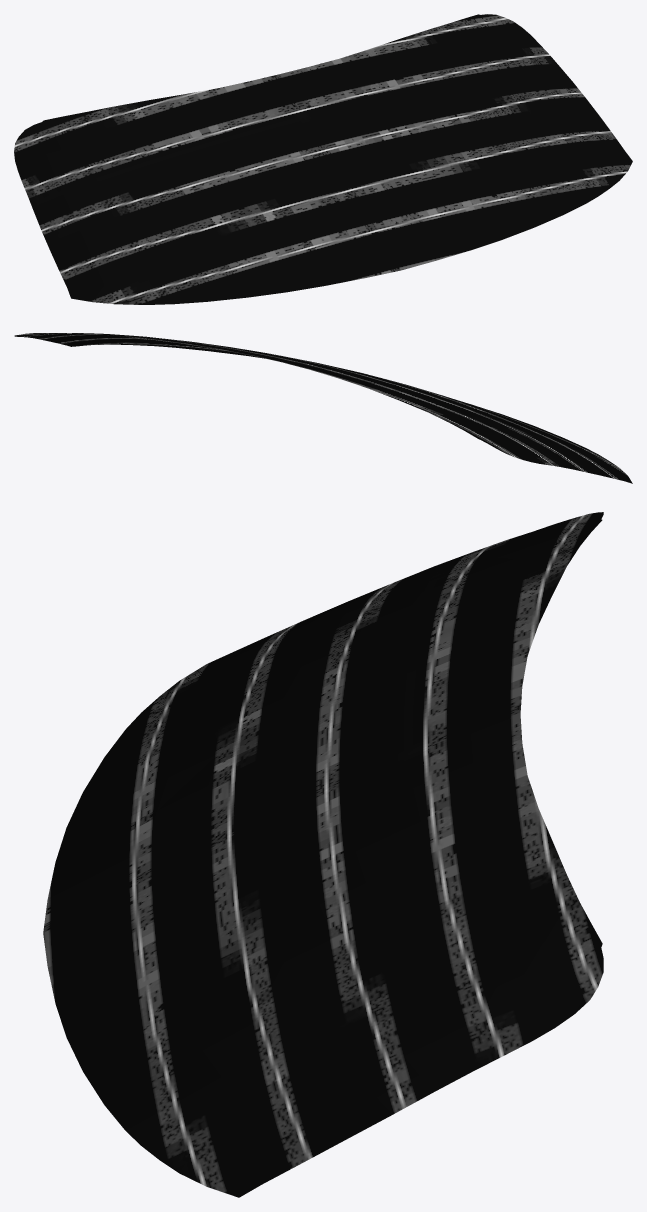
The model's file is defogger.glb.
The picture shows the model from 3 angles, top to bottom: view 1: azimuth 30°, elevation 25°; view 2: azimuth 150°, elevation 25°; view 3: azimuth 270°, elevation 25°; orthographic projection. The views are drawn at different scales.
Visible parts, largest first — view 1: defogger; view 2: defogger; view 3: defogger.
Boxes of the visible parts, left/top/right/bottom form: defogger: left=14, top=14, right=632, bottom=304; defogger: left=14, top=333, right=632, bottom=483; defogger: left=43, top=512, right=603, bottom=1197.
Bounding box in the file's own units: 1.14 × 0.2127 × 0.494.
Materials: 1 (1 with a texture image).
